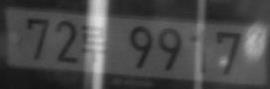1: (186, 29, 213, 73)
2: (54, 19, 78, 62)
7: (215, 30, 241, 74), (26, 17, 49, 59)
9: (156, 26, 182, 70), (129, 24, 153, 68)
루: (81, 24, 107, 63)
